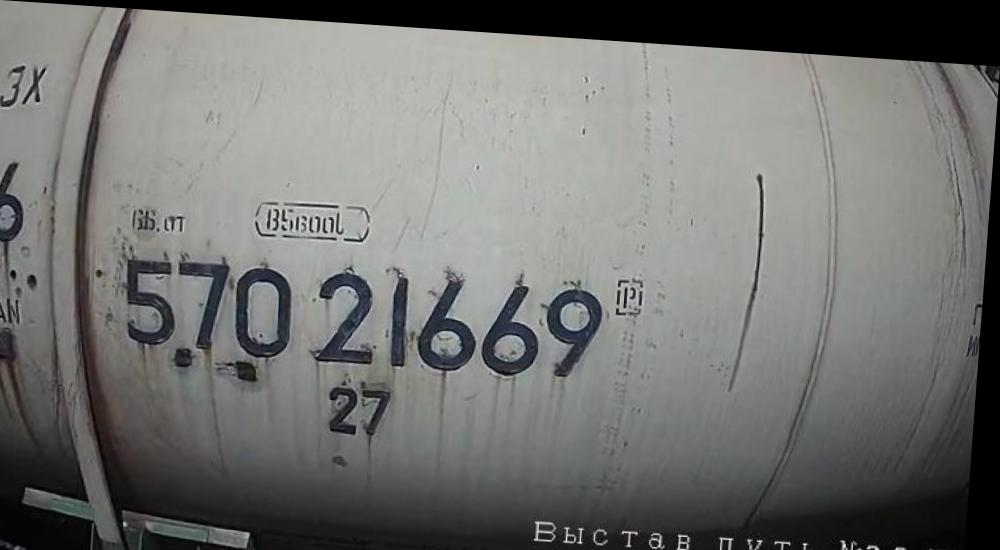Wagon-number: (123, 247, 616, 379)
